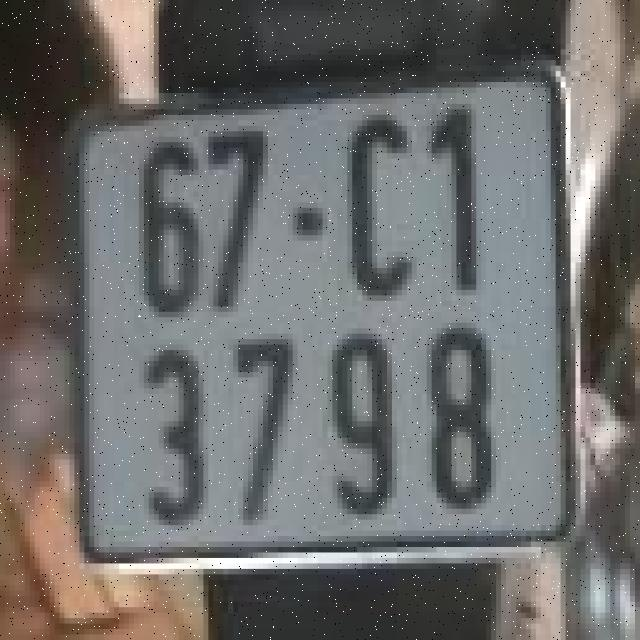1: (432, 93, 491, 301)
3: (121, 342, 216, 528)
6: (134, 123, 218, 320)
7: (216, 312, 305, 525), (201, 107, 265, 320)
8: (412, 317, 511, 525)
9: (315, 317, 409, 531)
C: (335, 98, 424, 306)
